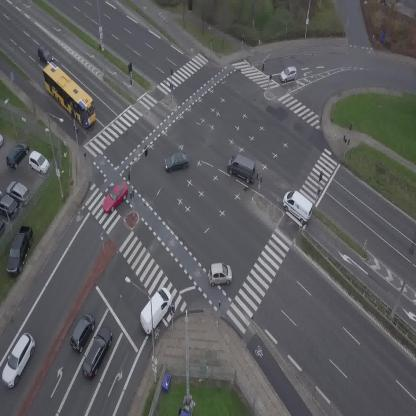bus: (34, 59, 105, 130)
car: (0, 330, 41, 390), (77, 324, 118, 382), (65, 311, 100, 355), (97, 180, 133, 216), (207, 261, 234, 287), (33, 43, 56, 68), (163, 151, 190, 172), (279, 65, 299, 83)
lorry: (133, 284, 178, 337), (277, 186, 320, 227), (222, 150, 262, 186)
